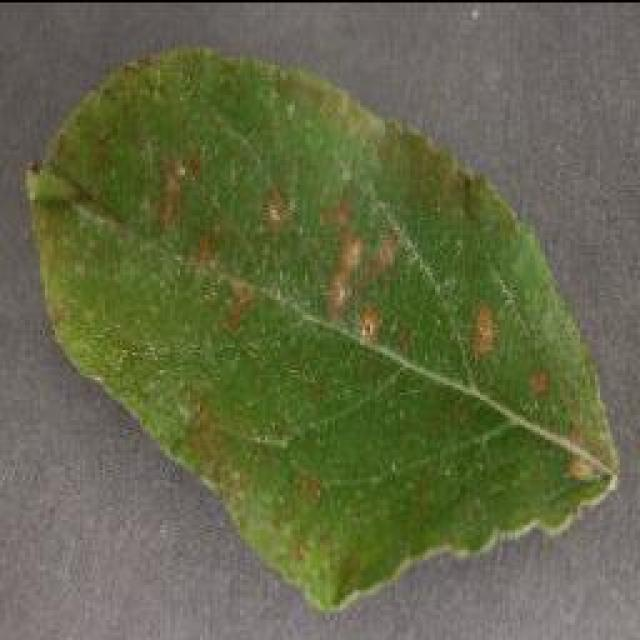apple healthy: (20, 42, 620, 612)
